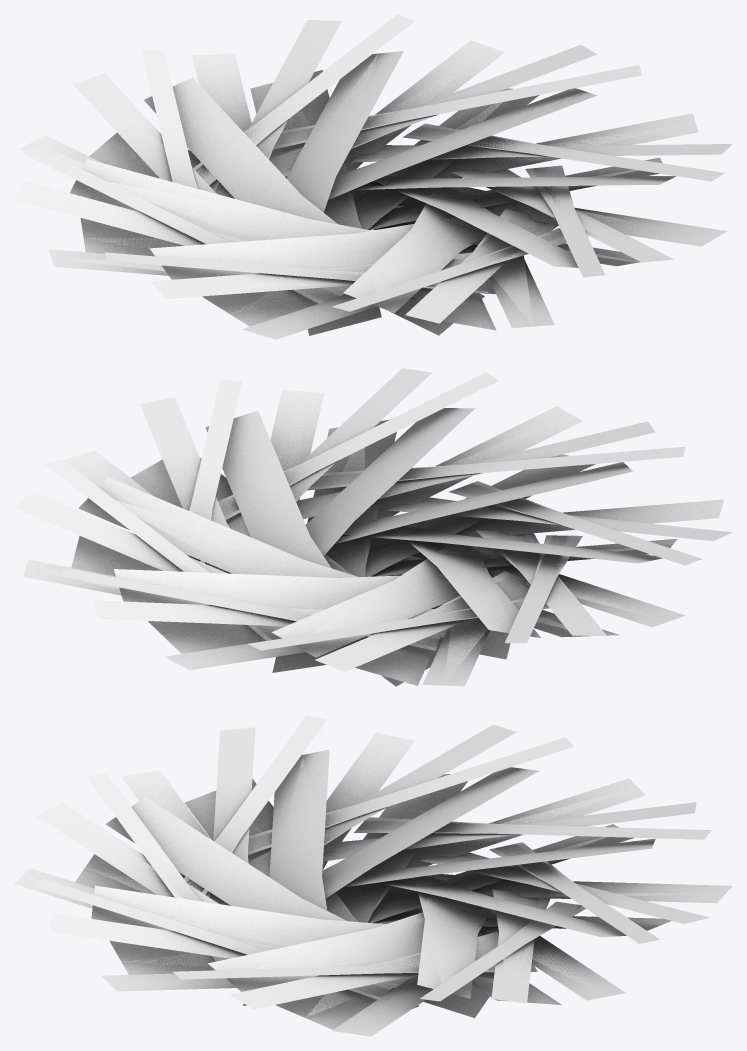
Rendered from nestTrivet_export.fbx.
The picture shows the model from 3 angles, top to bottom: view 1: azimuth 30°, elevation 25°; view 2: azimuth 150°, elevation 25°; view 3: azimuth 270°, elevation 25°; orthographic projection. The views are drawn at different scales.
Parts seen in each view (by area): view 1: trivetQuad_merge, trivetTri_merge; view 2: trivetQuad_merge, trivetTri_merge; view 3: trivetQuad_merge, trivetTri_merge.
Part boxes in pixels (bbox=[...]): trivetQuad_merge: bbox=[14, 14, 732, 339]; trivetTri_merge: bbox=[34, 25, 692, 325]; trivetQuad_merge: bbox=[14, 368, 732, 686]; trivetTri_merge: bbox=[25, 376, 688, 684]; trivetQuad_merge: bbox=[14, 715, 732, 1036]; trivetTri_merge: bbox=[24, 733, 723, 1017].
Size of the model in its own units: 6.22 by 0.9984 by 6.22.
